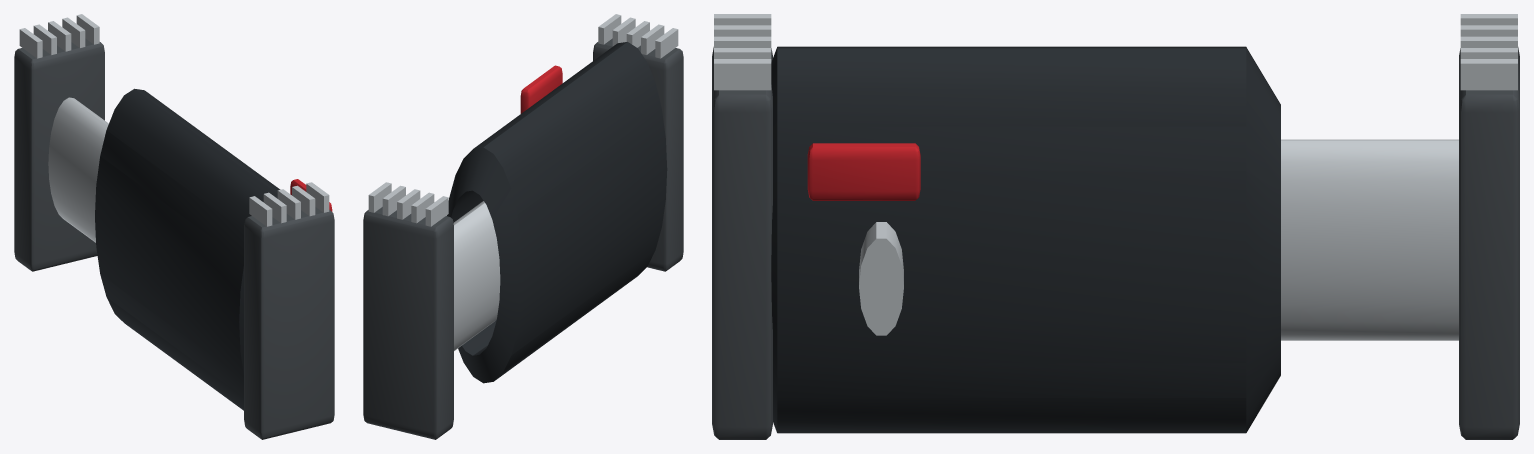
Rendered from ob_rescue_ram_3.glb.
3 views of the same model, side by side, from view 1: azimuth 30°, elevation 25°; view 2: azimuth 150°, elevation 25°; view 3: azimuth 270°, elevation 25° (orthographic). The views are drawn at different scales.
Parts seen in each view (by area): view 1: ob_rescue_ram_3; view 2: ob_rescue_ram_3; view 3: ob_rescue_ram_3.
Boxes of the visible parts, left/top/right/bottom form: ob_rescue_ram_3: left=14, top=14, right=334, bottom=439; ob_rescue_ram_3: left=363, top=14, right=683, bottom=439; ob_rescue_ram_3: left=712, top=14, right=1519, bottom=439.
Size of the model in its own units: 0.13 by 0.29 by 0.54.
